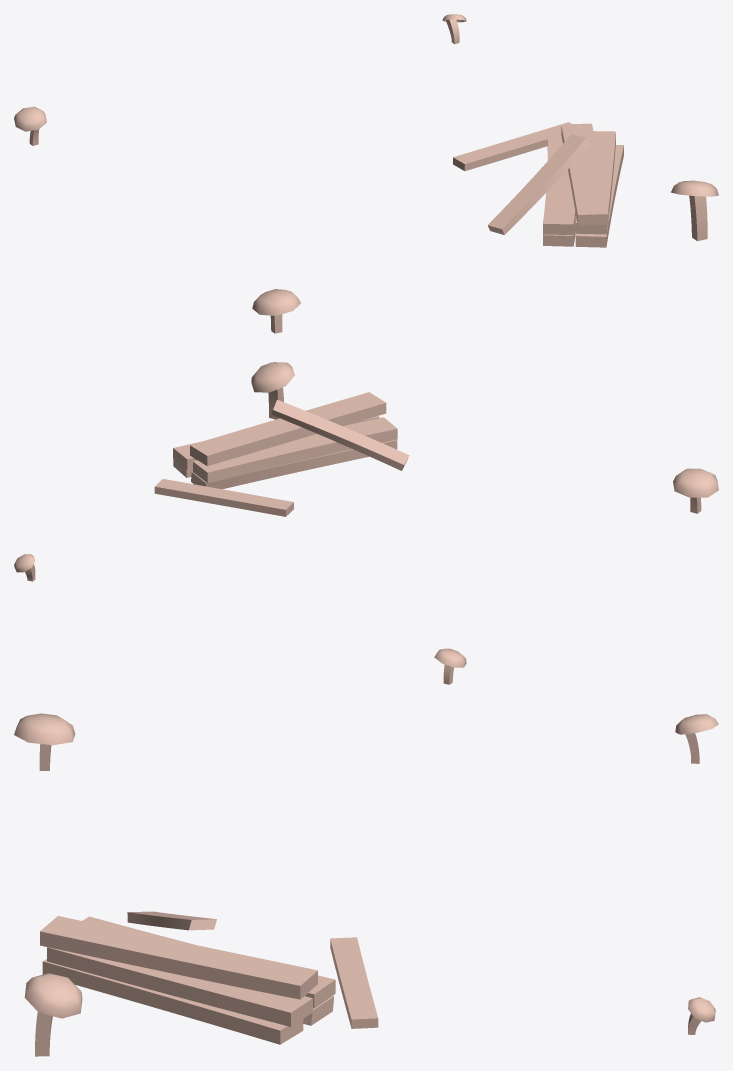
The model's file is House_Construction_3x3.glb.
3 views of the same model, one above another, from view 1: azimuth 30°, elevation 25°; view 2: azimuth 150°, elevation 25°; view 3: azimuth 270°, elevation 25° (orthographic). The views are drawn at different scales.
Parts seen in each view (by area): view 1: Cube.030, Cube.040, Cube.028, Cube.039, Cube.029, Cube.038, Cube.027, Cube.034, Cube.035, Cube.036; view 2: Cube.030, Cube.028, Cube.040, Cube.039, Cube.026, Cube.038, Cube.036; view 3: Cube.030, Cube.029, Cube.027, Cube.039, Cube.036, Cube.038, Cube.040, Cube.028, Cube.034, Cube.035.
Part boxes in pixels (left/top/right/bottom): Cube.030: left=561, top=123, right=608, bottom=225; Cube.040: left=487, top=134, right=590, bottom=234; Cube.028: left=543, top=131, right=575, bottom=235; Cube.039: left=453, top=122, right=571, bottom=170; Cube.029: left=576, top=131, right=615, bottom=234; Cube.038: left=252, top=289, right=300, bottom=315; Cube.027: left=575, top=145, right=623, bottom=247; Cube.034: left=689, top=195, right=707, bottom=241; Cube.035: left=14, top=106, right=46, bottom=131; Cube.036: left=671, top=180, right=718, bottom=196; Cube.030: left=190, top=392, right=386, bottom=465; Cube.028: left=193, top=417, right=397, bottom=483; Cube.040: left=271, top=399, right=409, bottom=470; Cube.039: left=154, top=479, right=293, bottom=516; Cube.026: left=191, top=439, right=397, bottom=489; Cube.038: left=673, top=468, right=718, bottom=497; Cube.036: left=251, top=362, right=294, bottom=392; Cube.030: left=40, top=916, right=317, bottom=999; Cube.029: left=47, top=947, right=312, bottom=1026; Cube.027: left=42, top=959, right=303, bottom=1044; Cube.039: left=330, top=937, right=378, bottom=1028; Cube.036: left=24, top=973, right=82, bottom=1018; Cube.038: left=14, top=713, right=75, bottom=745; Cube.040: left=127, top=911, right=216, bottom=930; Cube.028: left=82, top=916, right=335, bottom=1008; Cube.034: left=35, top=1012, right=52, bottom=1056; Cube.035: left=675, top=714, right=718, bottom=734.
Size of the model in its own units: 3.24 by 0.4911 by 3.25.
